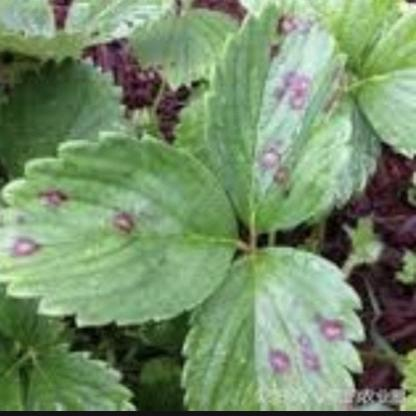Strawberry_Leaf_Spot: (0, 130, 240, 328), (205, 0, 382, 235), (181, 244, 365, 412)
